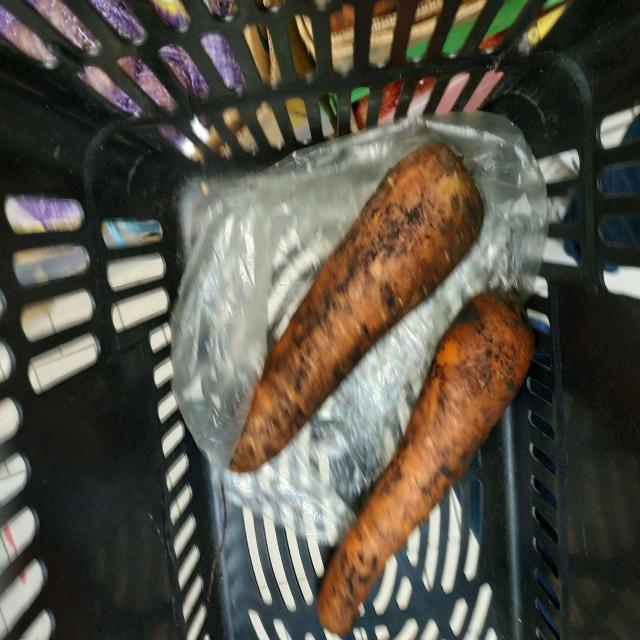Carrot: (230, 143, 485, 472), (319, 295, 534, 636)
